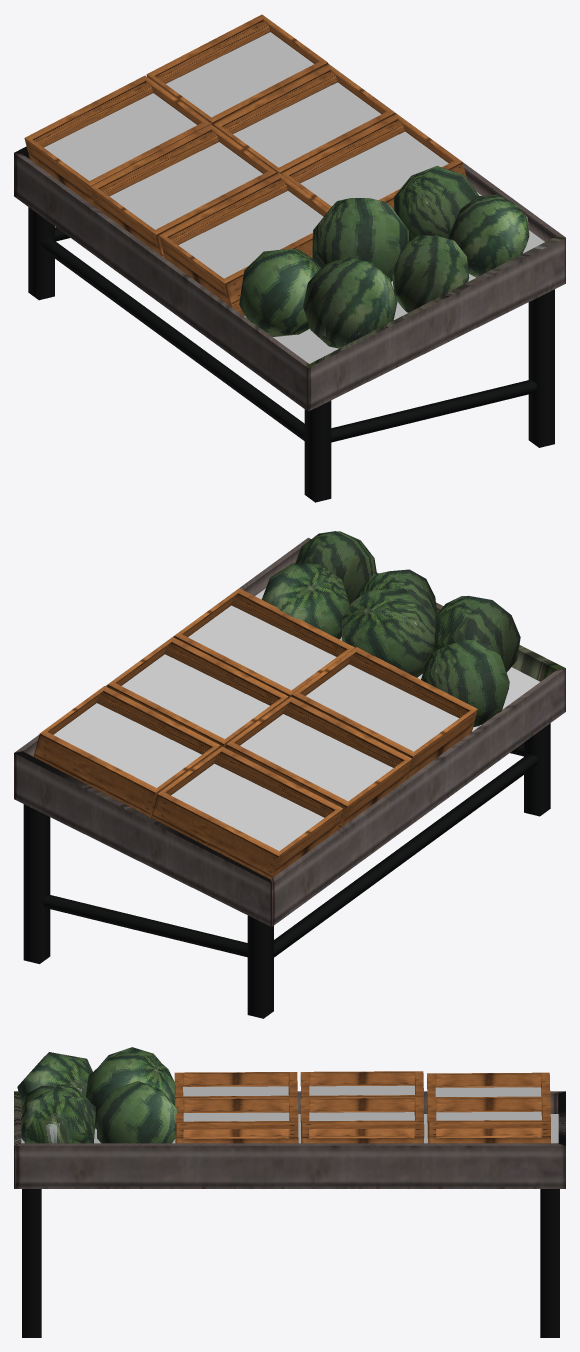
The model's file is fruit.FBX.
3 renders of one model, top to bottom at view 1: azimuth 30°, elevation 25°; view 2: azimuth 150°, elevation 25°; view 3: azimuth 270°, elevation 25°, orthographic. The views are drawn at different scales.
Visible parts, largest first — view 1: polySurface25, pCube005, pCube4, pCube006, pCube007, pCube008, pCube009, pSphere003, Object018, Object019, pSphere1, pSphere002 (+1 smaller); view 2: polySurface25, pCube4, pCube007, pCube005, pCube006, pCube008, pCube009, Object018, Object019, Object017, pSphere003, pSphere1 (+1 smaller); view 3: polySurface25, pCube007, pCube008, pCube009, Object017, pSphere1, pCube005, pCube006, pCube4, Object018, pSphere003, pSphere002.
Part boxes in pixels (<box>): polySurface25: <box>14,64,565,502</box>; pCube005: <box>90,124,276,257</box>; pCube4: <box>24,75,210,206</box>; pCube006: <box>159,173,329,315</box>; pCube007: <box>146,14,328,126</box>; pCube008: <box>214,64,395,173</box>; pCube009: <box>281,114,466,209</box>; pSphere003: <box>303,257,397,348</box>; Object018: <box>312,198,408,281</box>; Object019: <box>239,248,320,336</box>; pSphere1: <box>448,194,529,277</box>; pSphere002: <box>392,235,469,312</box>; polySurface25: <box>14,537,565,1018</box>; pCube4: <box>151,746,343,879</box>; pCube007: <box>33,686,220,817</box>; pCube005: <box>225,697,412,829</box>; pCube006: <box>291,647,477,779</box>; pCube008: <box>107,637,288,747</box>; pCube009: <box>174,588,354,698</box>; Object018: <box>341,588,436,677</box>; Object019: <box>421,640,509,727</box>; Object017: <box>262,563,349,639</box>; pSphere003: <box>435,595,520,672</box>; pSphere1: <box>295,531,376,605</box>; polySurface25: <box>14,1091,565,1337</box>; pCube007: <box>427,1097,550,1143</box>; pCube008: <box>300,1097,423,1143</box>; pCube009: <box>175,1098,298,1143</box>; Object017: <box>97,1081,177,1143</box>; pSphere1: <box>24,1086,95,1143</box>; pCube005: <box>300,1071,424,1137</box>; pCube006: <box>174,1072,297,1105</box>; pCube4: <box>427,1072,550,1137</box>; Object018: <box>86,1052,175,1129</box>; pSphere003: <box>17,1052,92,1104</box>; pSphere002: <box>21,1084,90,1141</box>.
Size of the model in its own units: 14.28 by 12.82 by 28.23.
